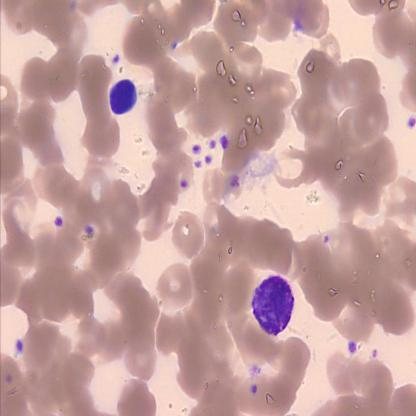Basophil: (250, 271, 296, 337), (109, 76, 138, 117)
